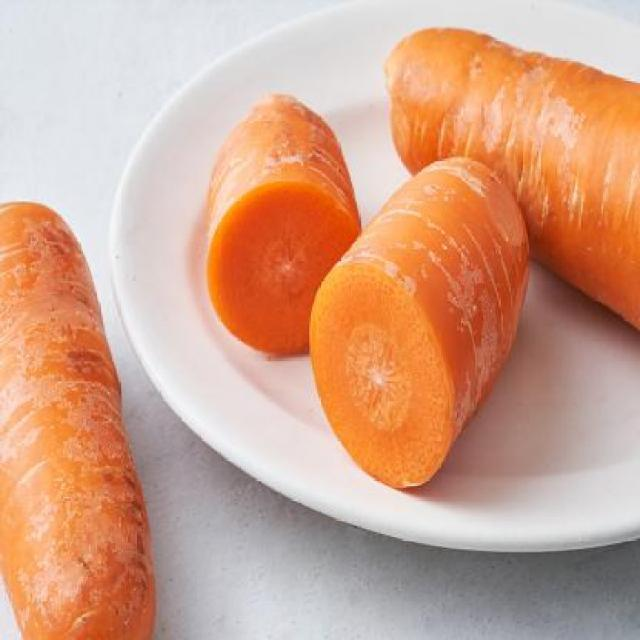carrot: (381, 23, 640, 338), (306, 153, 534, 493), (0, 192, 160, 640), (201, 85, 367, 358)
